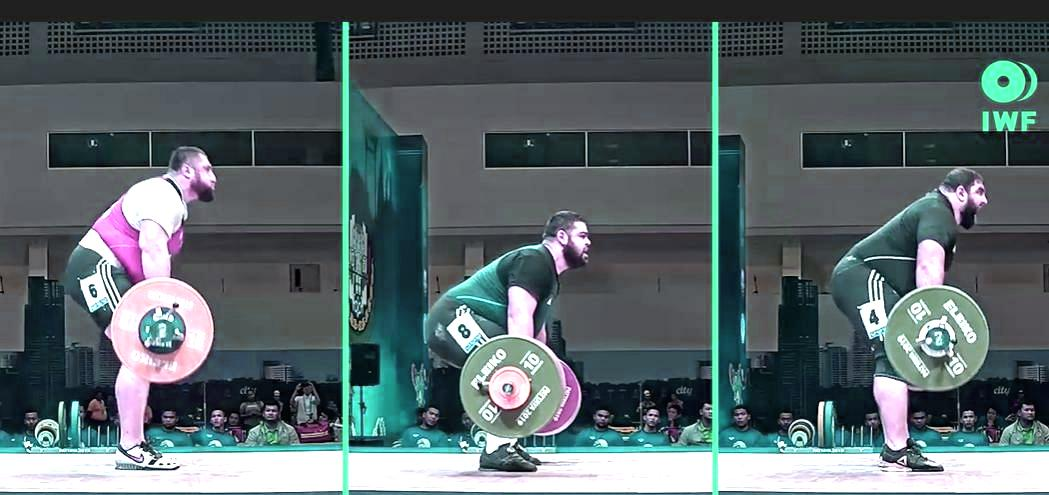Barbell: (143, 314, 181, 347), (927, 325, 953, 353), (498, 379, 519, 398)
